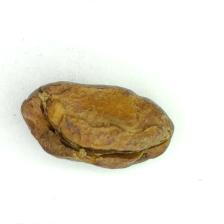NG: (26, 82, 167, 167)
